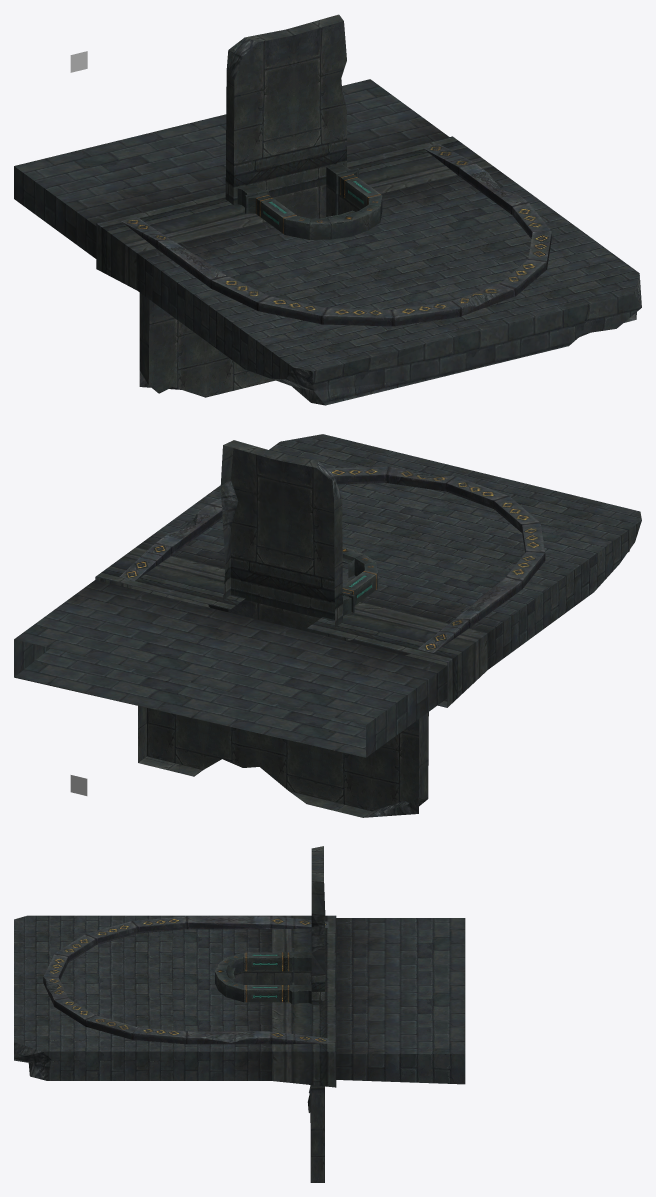
File: tanxian_fuben_257_dazhong.obj
3 renders of one model, top to bottom at view 1: azimuth 30°, elevation 25°; view 2: azimuth 150°, elevation 25°; view 3: azimuth 270°, elevation 25°, orthographic. The views are drawn at different scales.
Parts seen in each view (by area): view 1: tanxian_fuben_257_dazhong; view 2: tanxian_fuben_257_dazhong; view 3: tanxian_fuben_257_dazhong.
Boxes of the visible parts, <box> form: tanxian_fuben_257_dazhong: <box>14,14,641,405</box>; tanxian_fuben_257_dazhong: <box>14,434,641,817</box>; tanxian_fuben_257_dazhong: <box>14,846,465,1182</box>.
Size of the model in its own units: 515 by 473 by 1004.
